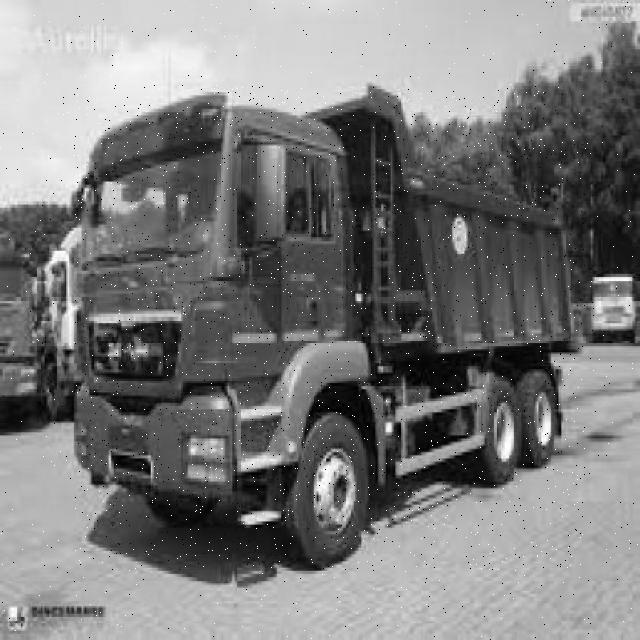Box Truck: (74, 85, 585, 570)
